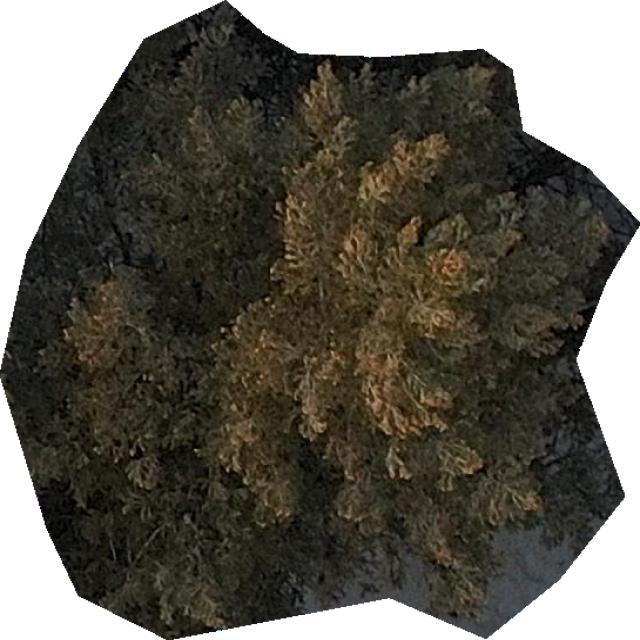spruce: (0, 2, 639, 639)
